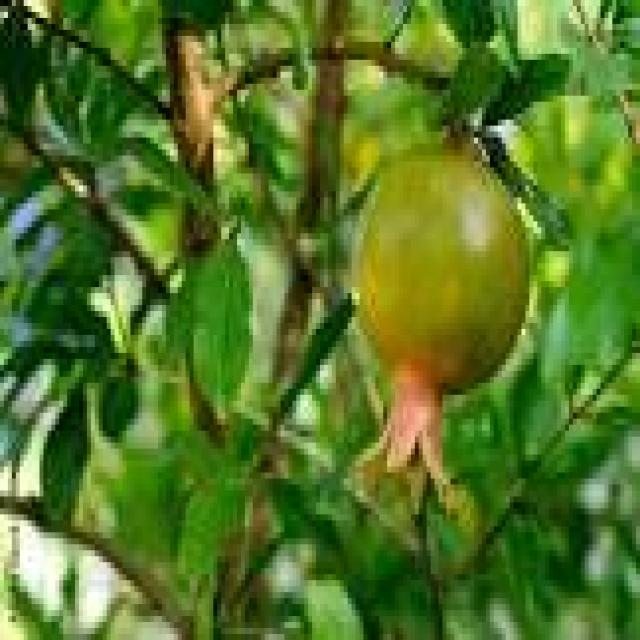Pomegranate: (353, 123, 533, 488)
